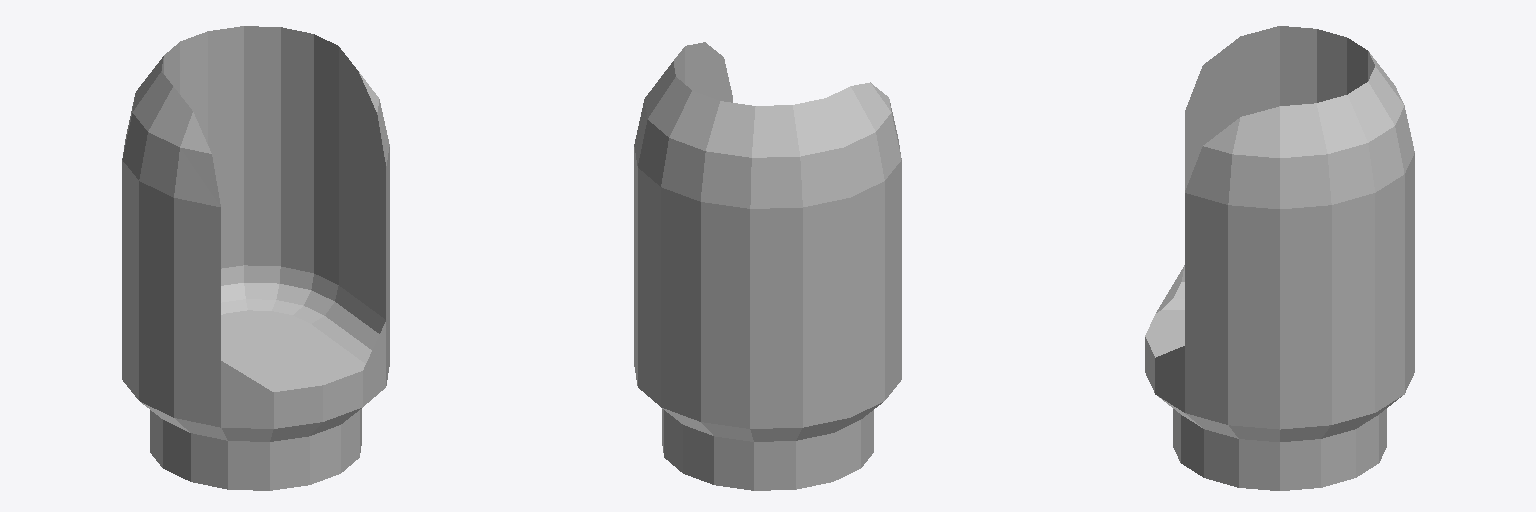
File: scanner_body.obj
3 views of the same model, side by side, from view 1: azimuth 30°, elevation 25°; view 2: azimuth 150°, elevation 25°; view 3: azimuth 270°, elevation 25° (orthographic).
Visible parts, largest first — view 1: ScannerBody; view 2: ScannerBody; view 3: ScannerBody.
Boxes of the visible parts, x1,y1,x2,y2 form: ScannerBody: [122, 26, 389, 490]; ScannerBody: [634, 42, 901, 490]; ScannerBody: [1145, 26, 1414, 490].
Bounding box in the file's own units: 0.2 × 0.3107 × 0.2.